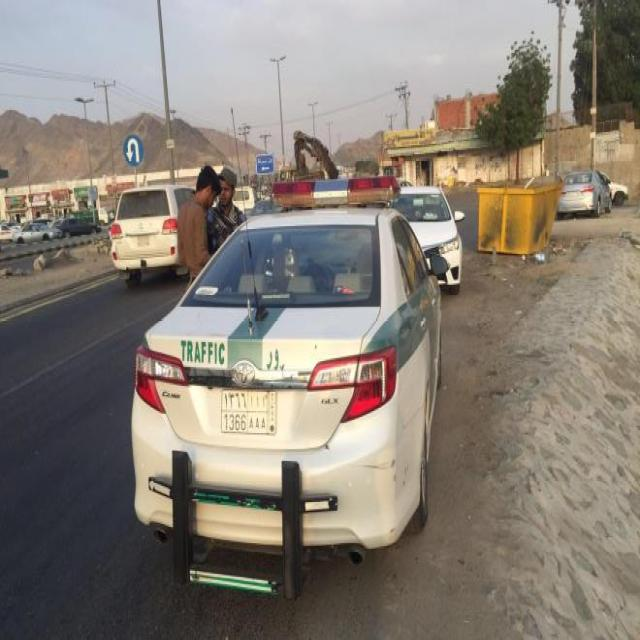license_plate: (220, 390, 277, 436)
